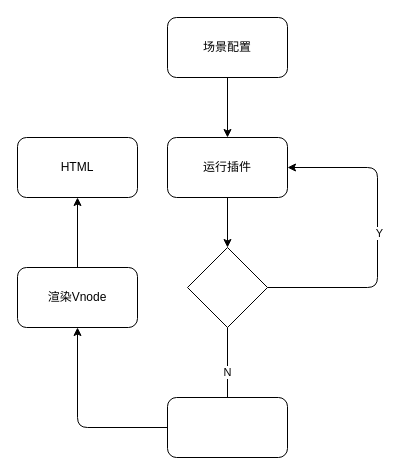
Image size: 403x475. Some labels were removed from this diagram. The shapes that lost their labels are listed below. From the top down, each one's centre as x and y in pixels, then its label:
At point (227, 287): "存在未 运行插件？".
At point (227, 427): "Scheme".
